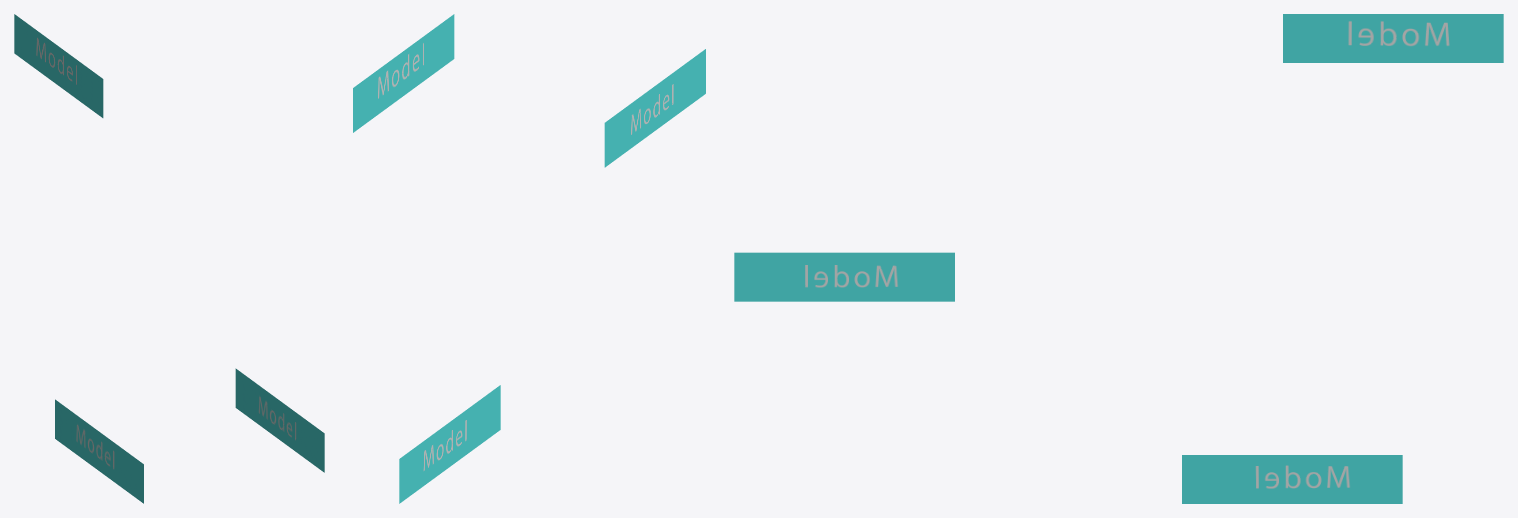
Rendered from Tags_1.fbx.
3 views of the same model, side by side, from view 1: azimuth 30°, elevation 25°; view 2: azimuth 150°, elevation 25°; view 3: azimuth 270°, elevation 25° (orthographic). The views are drawn at different scales.
Parts seen in each view (by area): view 1: pPlane5, pPlane6, pPlane7; view 2: pPlane5, pPlane6, pPlane7; view 3: pPlane6, pPlane5, pPlane7.
Boxes of the visible parts, x1,y1,x2,y2 form: pPlane5: [14, 14, 103, 117]; pPlane6: [235, 368, 324, 472]; pPlane7: [55, 399, 143, 503]; pPlane5: [353, 14, 454, 132]; pPlane6: [604, 49, 705, 167]; pPlane7: [399, 385, 500, 503]; pPlane6: [734, 252, 954, 301]; pPlane5: [1283, 14, 1503, 62]; pPlane7: [1182, 455, 1402, 503].
Bounding box in the file's own units: 0 × 1.22 × 1.74.
Materials: 1 (1 with a texture image).
